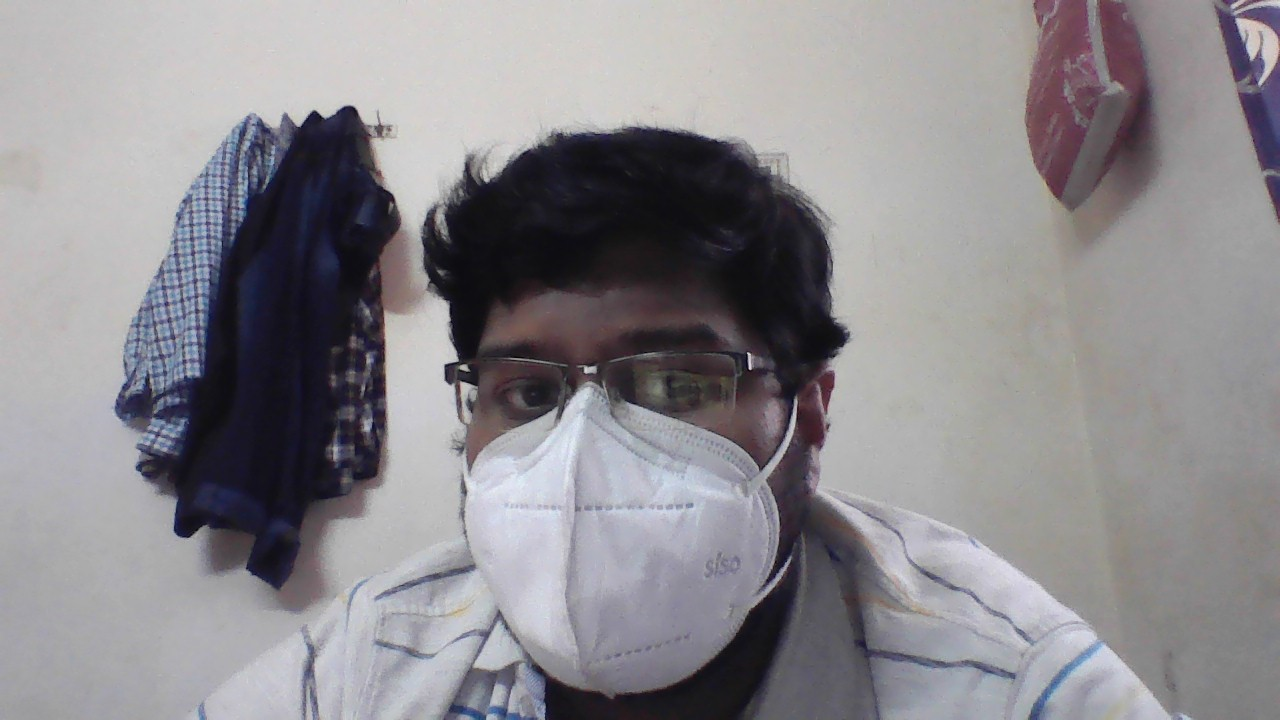Mask: (473, 425, 838, 640)
